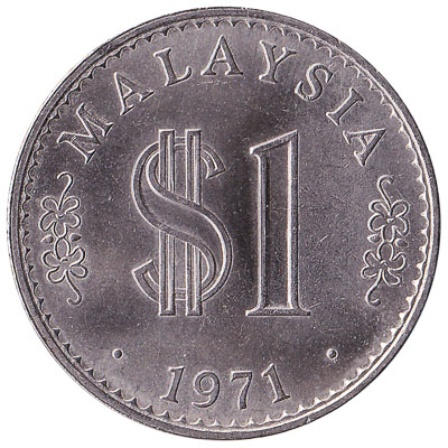1r: (4, 4, 446, 444)
